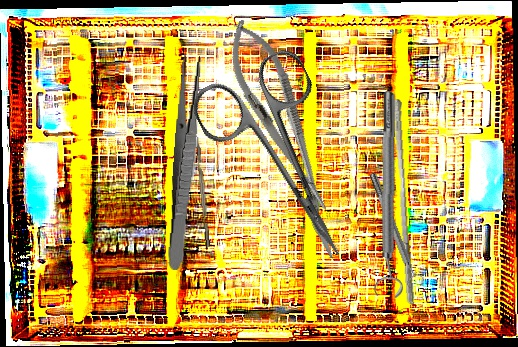Chopper: (189, 128, 211, 249)
Dressing Forceps: (165, 52, 204, 272)
Fixation Ring: (370, 91, 408, 298), (363, 169, 427, 291)
Iris Scissors: (186, 44, 385, 285)
Needle Holder: (213, 12, 345, 221)
Pusher: (385, 97, 423, 307)
